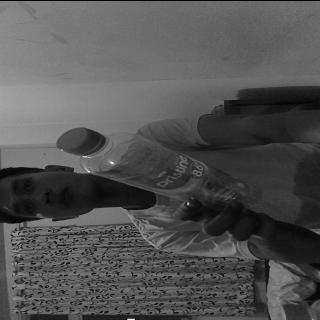plastic_bottles: (55, 126, 262, 212)
